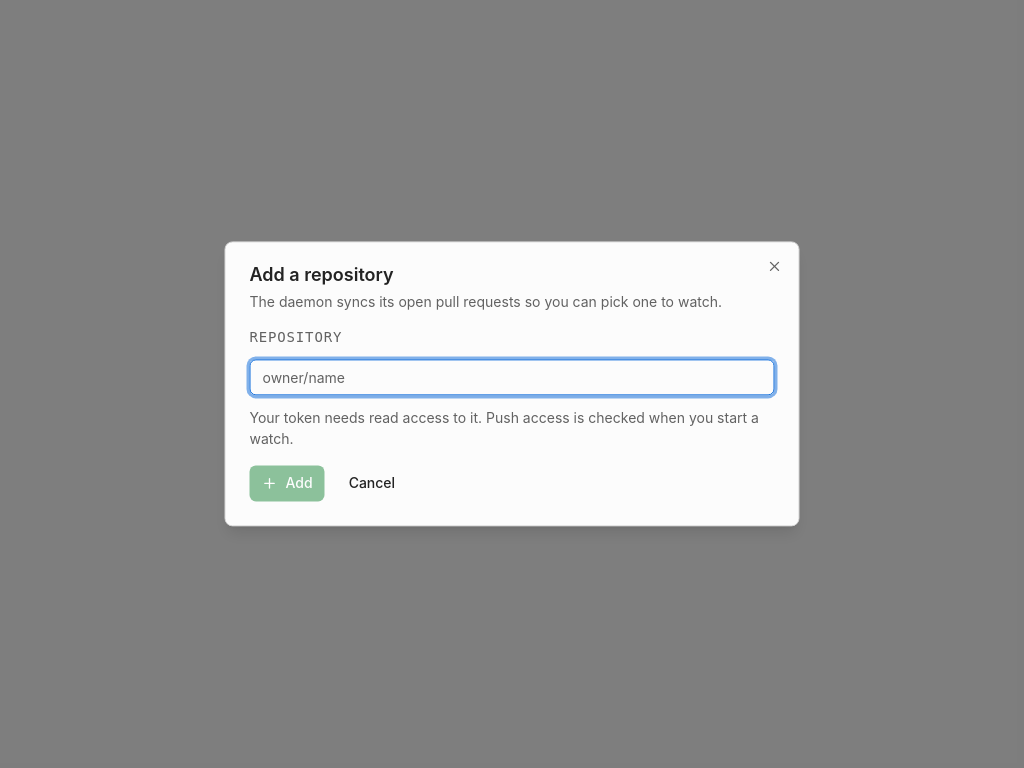
Test: does not allow adding a repository until its name is entered
Expected: the button "Add" is disabled, x1=250 y1=466 x2=325 y2=502
In the field labelled "Repository": x=512, y=378 x1=250 y1=360 x2=774 y2=396, type "octo/babysitter"
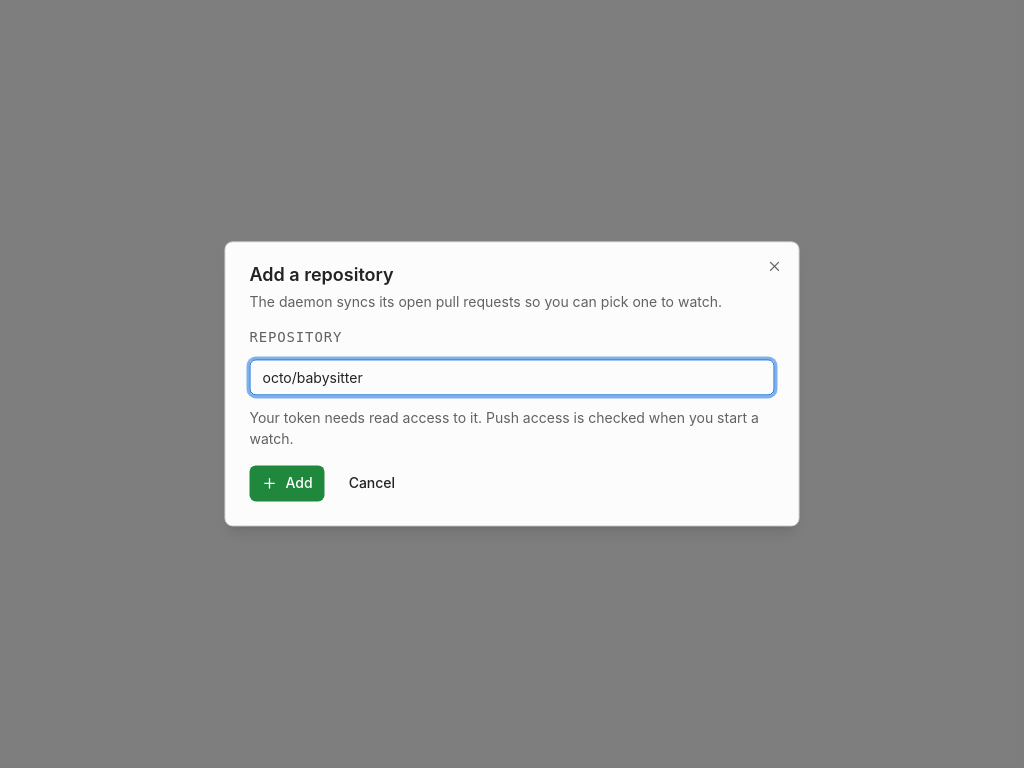
Now the button "Add" is enabled, box x1=250 y1=466 x2=325 y2=502
